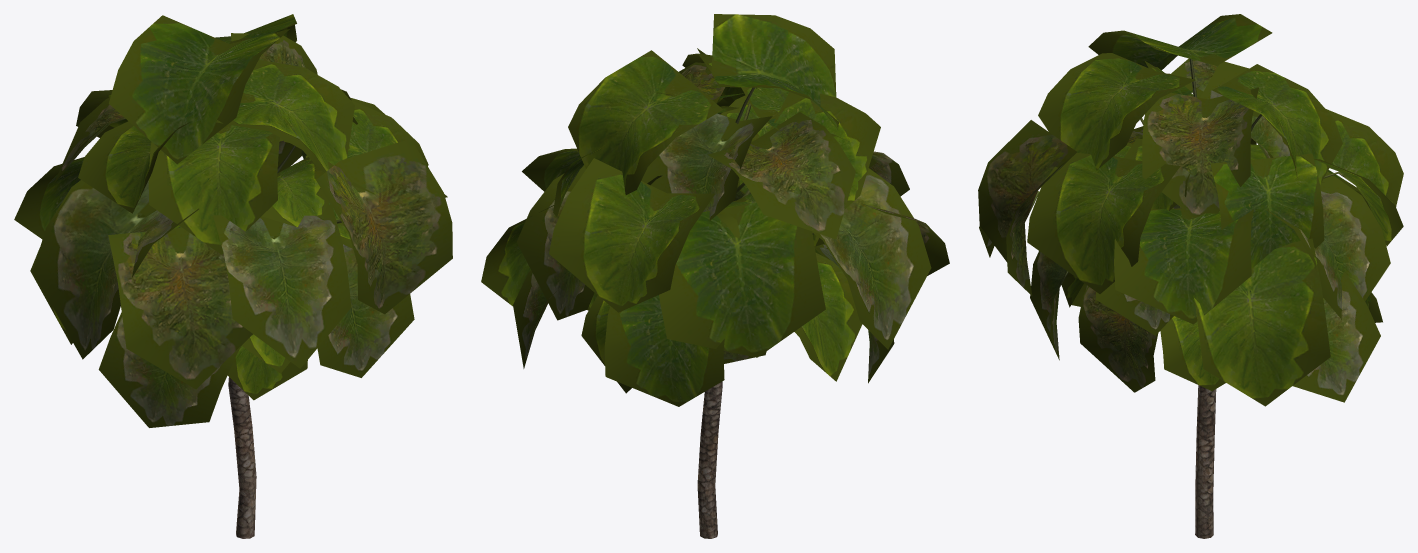
The model's file is sm10_033_tropicalplant08a.fbx.
3 views of the same model, side by side, from view 1: azimuth 30°, elevation 25°; view 2: azimuth 150°, elevation 25°; view 3: azimuth 270°, elevation 25° (orthographic). The views are drawn at different scales.
Visible parts, largest first — view 1: LOD_1_Group_0_Sub_1__sm10_033_TropicalPlant08A_A_Mat__Env_Al, LOD_1_Group_1_Sub_1__sm10_033_TropicalPlant08A_A_Mat; view 2: LOD_1_Group_0_Sub_1__sm10_033_TropicalPlant08A_A_Mat__Env_Al, LOD_1_Group_1_Sub_1__sm10_033_TropicalPlant08A_A_Mat; view 3: LOD_1_Group_0_Sub_1__sm10_033_TropicalPlant08A_A_Mat__Env_Al, LOD_1_Group_1_Sub_1__sm10_033_TropicalPlant08A_A_Mat.
Part boxes in pixels (x1,y1,x2,y2): LOD_1_Group_0_Sub_1__sm10_033_TropicalPlant08A_A_Mat__Env_Al: [14, 14, 452, 427]; LOD_1_Group_1_Sub_1__sm10_033_TropicalPlant08A_A_Mat: [113, 118, 341, 538]; LOD_1_Group_0_Sub_1__sm10_033_TropicalPlant08A_A_Mat__Env_Al: [481, 14, 949, 406]; LOD_1_Group_1_Sub_1__sm10_033_TropicalPlant08A_A_Mat: [697, 87, 813, 538]; LOD_1_Group_0_Sub_1__sm10_033_TropicalPlant08A_A_Mat__Env_Al: [978, 14, 1403, 406]; LOD_1_Group_1_Sub_1__sm10_033_TropicalPlant08A_A_Mat: [1026, 59, 1353, 538].
Bounding box in the file's own units: 2.75 × 3.7 × 2.89.
